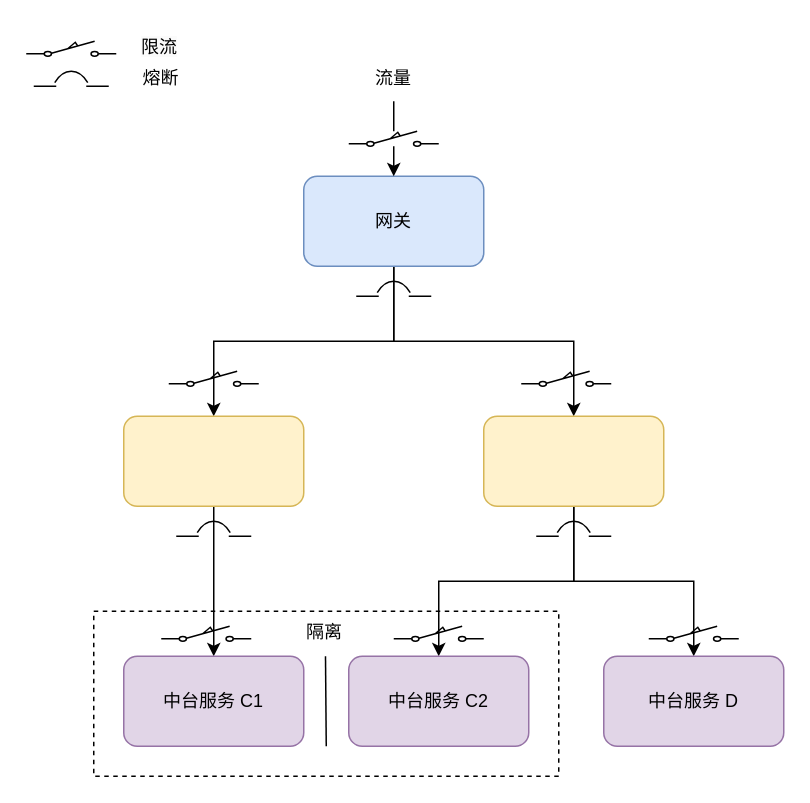
Some shapes in this 810 by 803 pixel diagram are drawn without their labels. The shapes that lost their labels are listed below. From the top down, each one's box as (x1, y1, x2, y2) in pixels, then its label:
(122, 415, 304, 506): 前台服务 A
(482, 415, 664, 506): 前台服务 B
